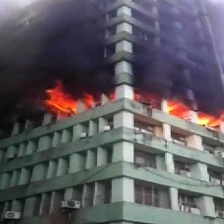fire: (43, 80, 224, 130)
smoke: (3, 1, 224, 86)
